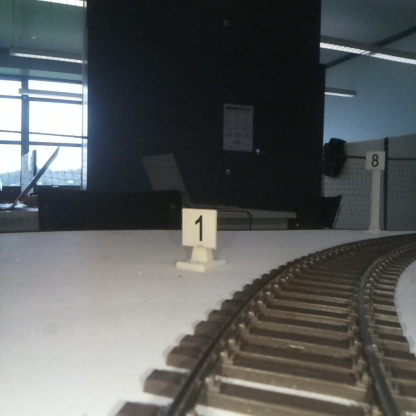white-info-8: (366, 150, 385, 234)
white-stop-1: (182, 210, 216, 270)
